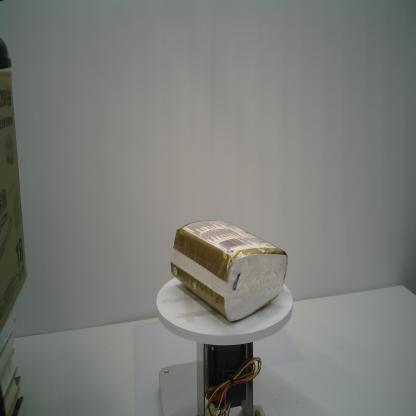Tissue: (171, 220, 288, 322)
